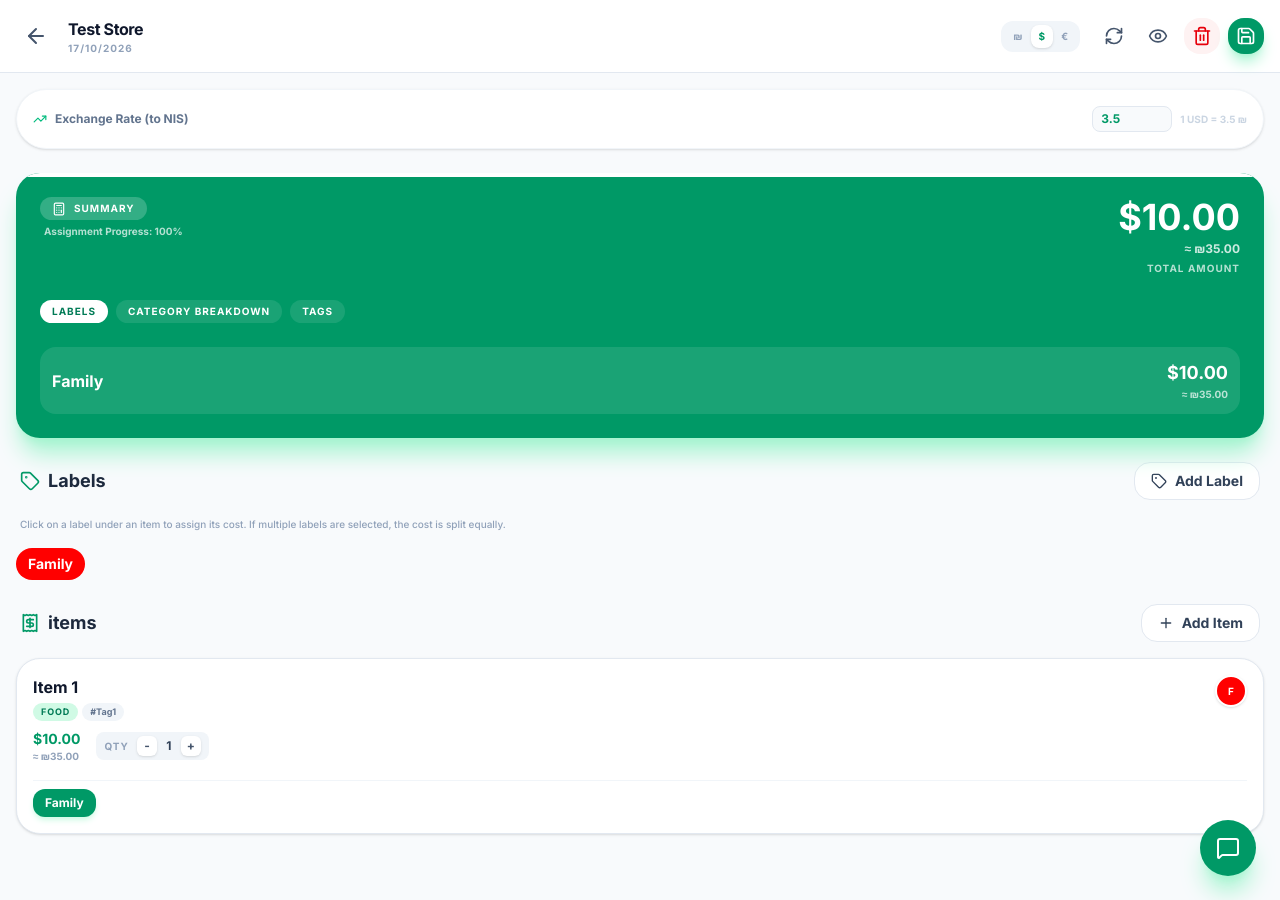
Test: SessionView › opens image modal when eye icon is clicked
Step 1. Click the button named "view image" → (1158, 36), box [1140, 18, 1176, 54]
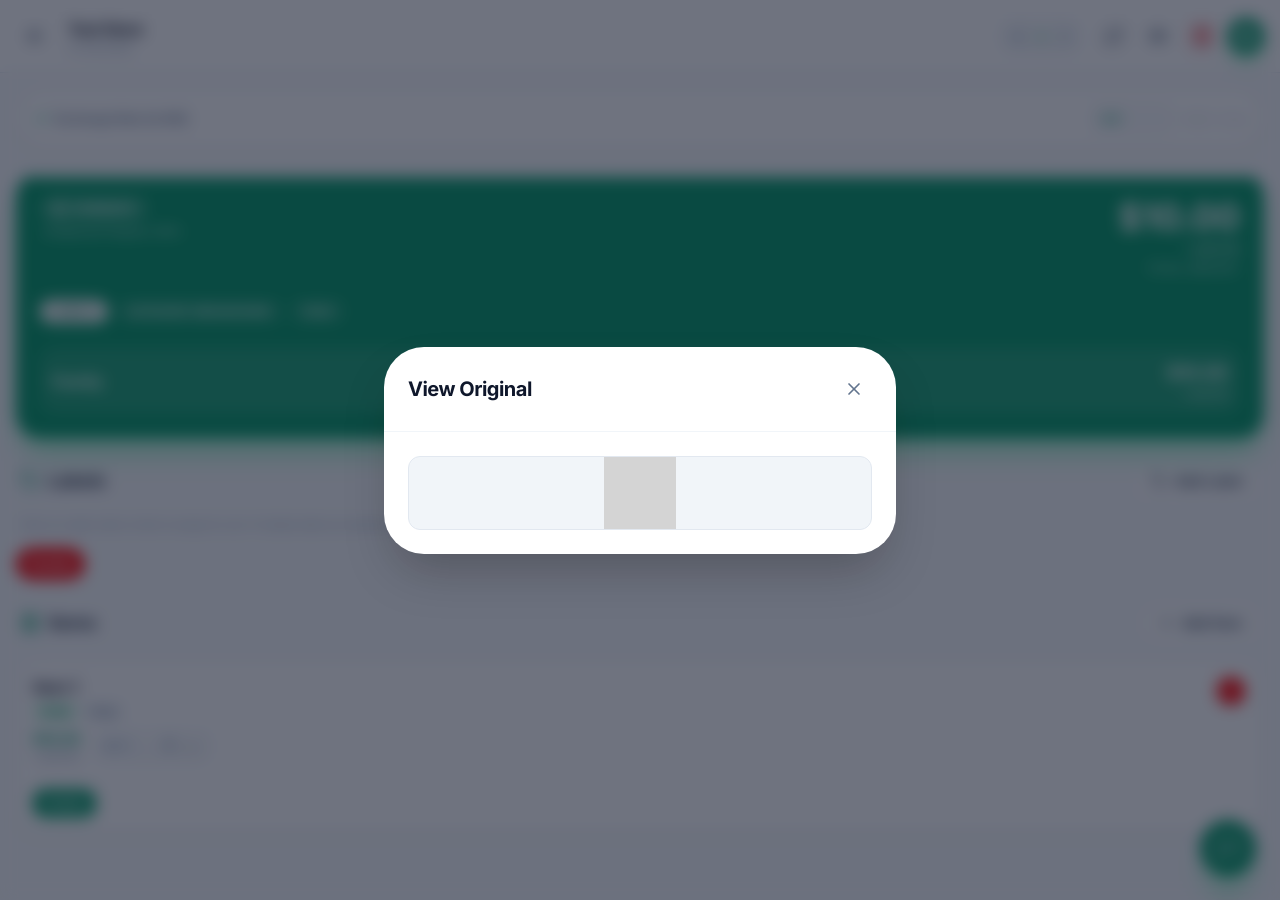
Check: the heading "View Original" is shown, box [408, 374, 532, 402]
